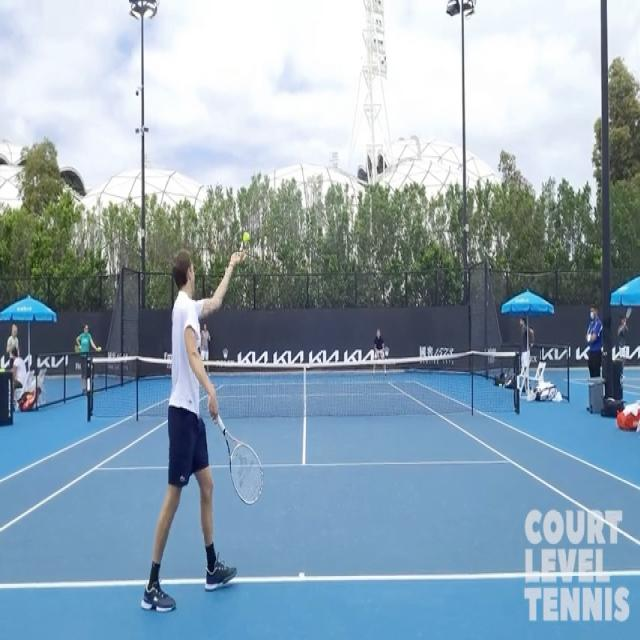serve_toss: (147, 254, 254, 605)
